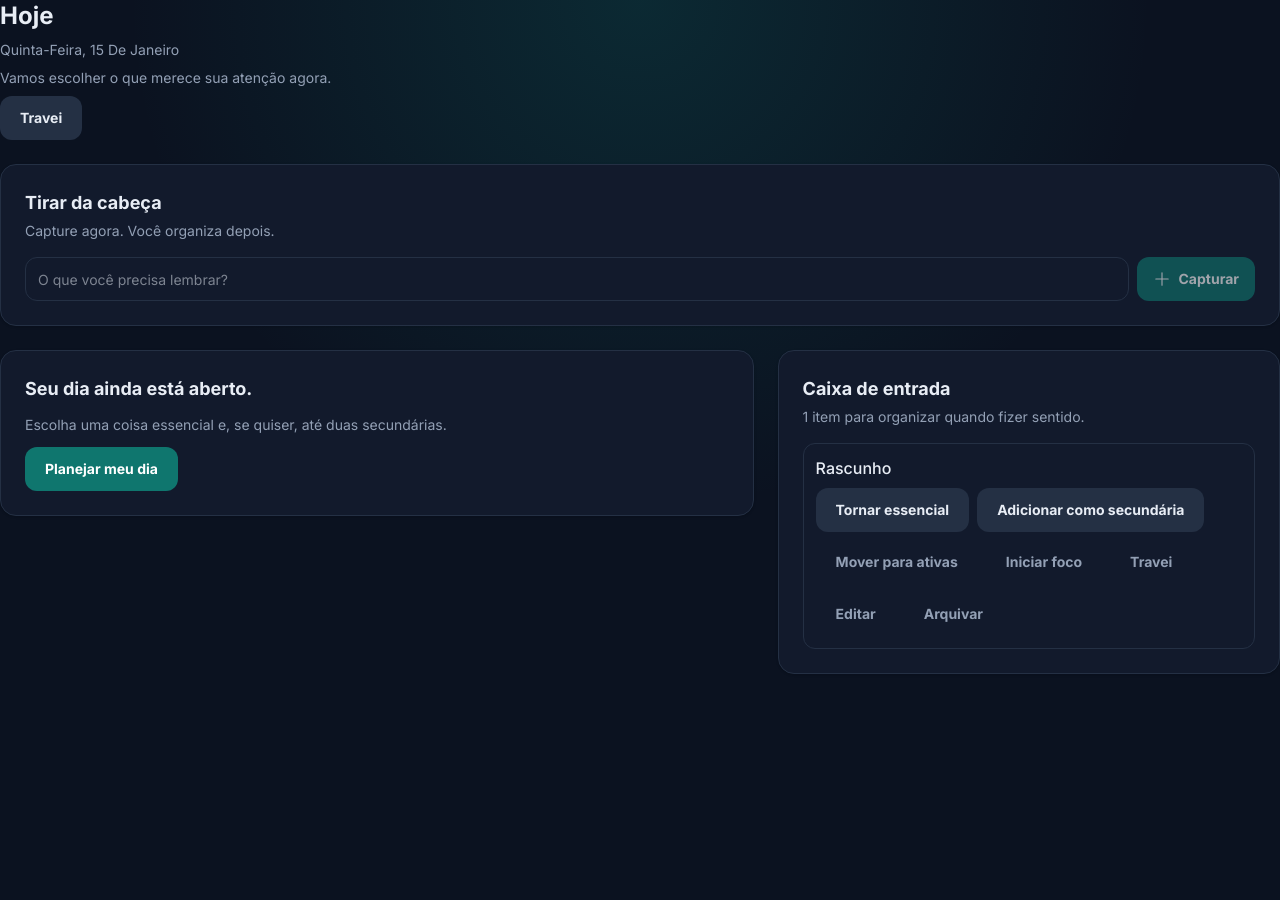
Test case: Today screen › editing › does not save on cancel and rejects an empty title
Expected: the heading "Hoje" is shown, [0,1,54,30]
Click the button "Editar": [856, 614] box [816,592,896,636]
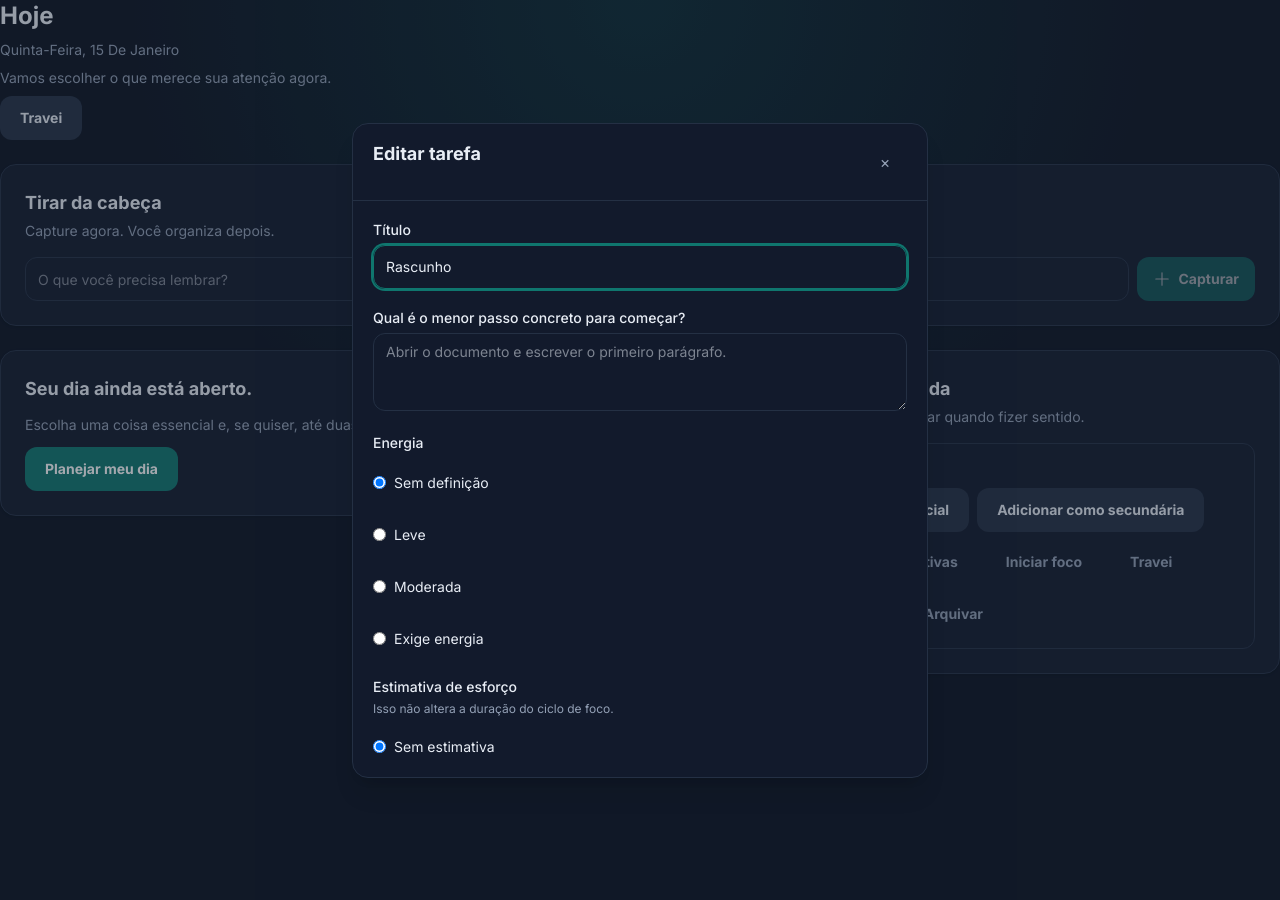
Replace the text in the field labelled "Título" with "Não deve ficar": [640, 266] box [373,244,907,288]
(page scrolled)
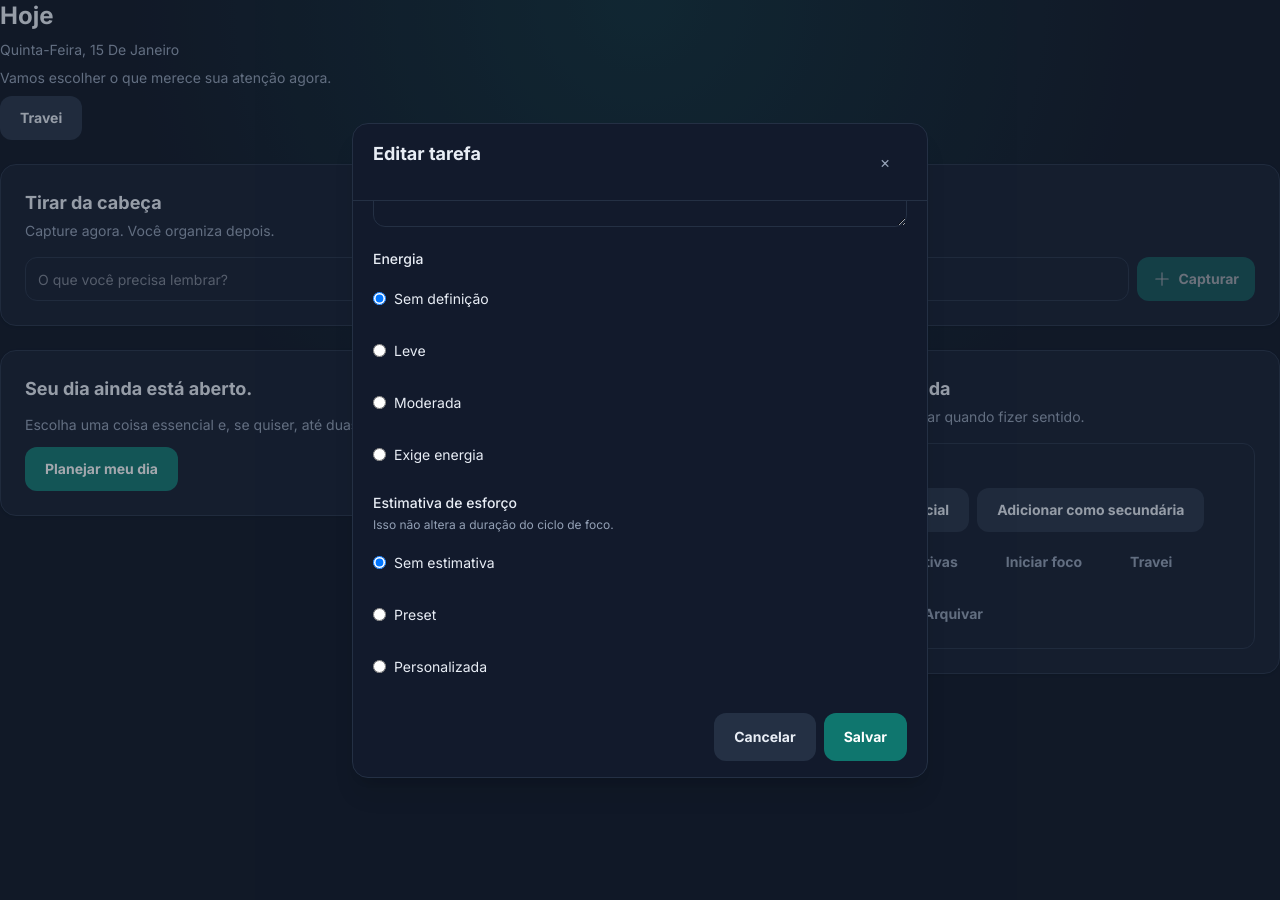
Click the button "Cancelar": [765, 736] box [714,712,816,760]
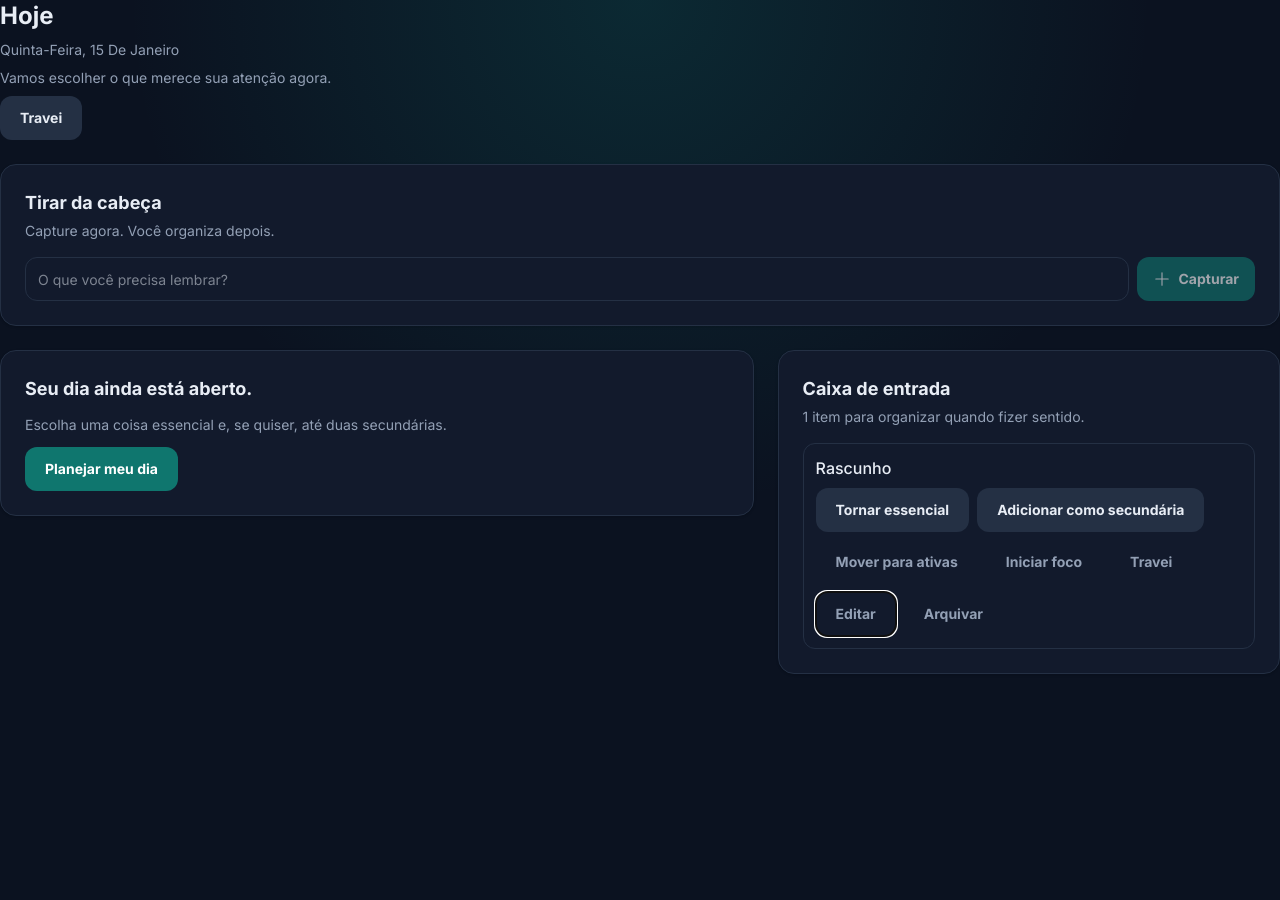
Expected: the text "Rascunho" is shown, [816,458,891,478]
Expected: the text "Não deve ficar" is not shown
Click the button "Editar": [856, 614] box [816,592,896,636]
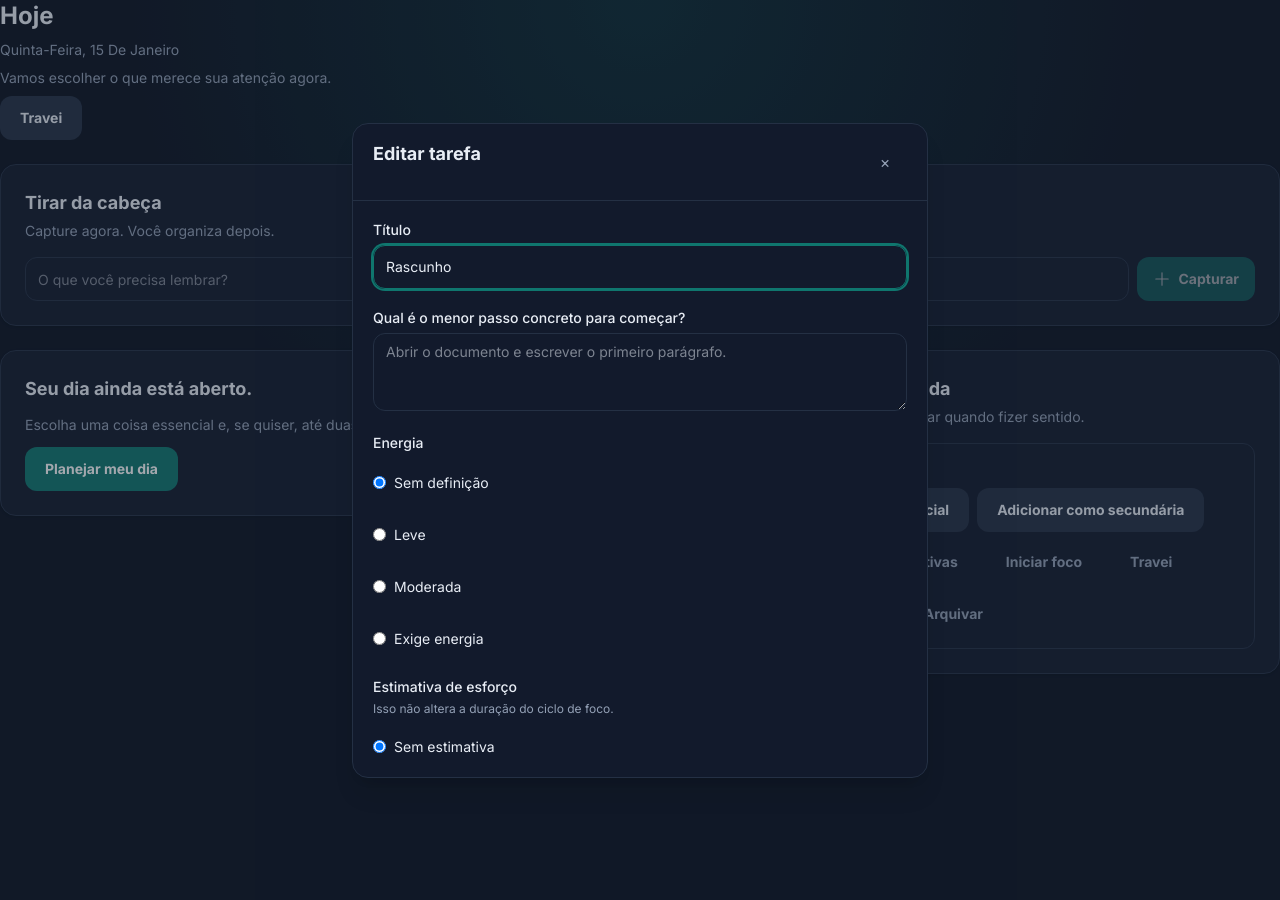
Clear the field labelled "Título": [640, 266] box [373,244,907,288]
(page scrolled)
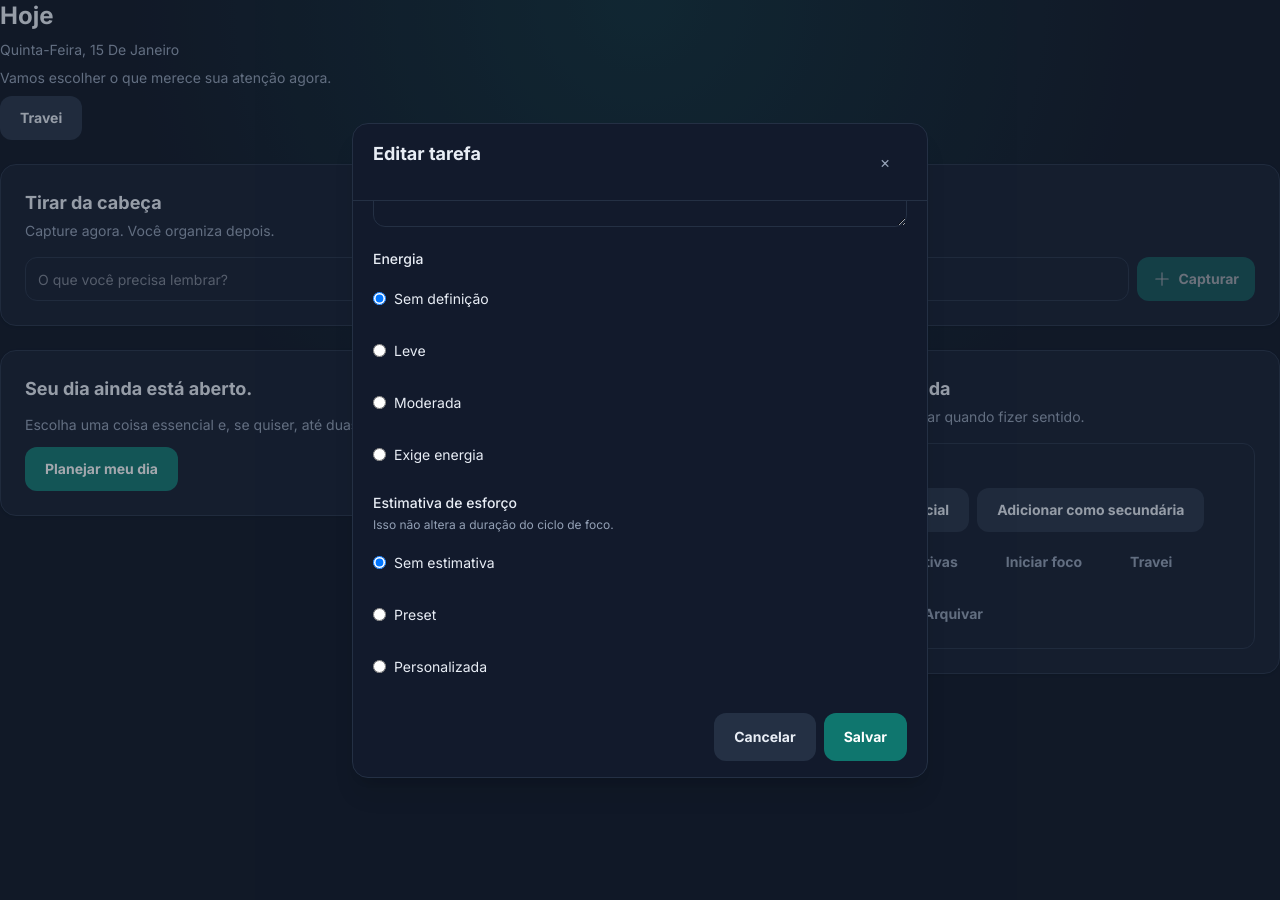
Click the button "Salvar": [865, 736] box [824,712,907,760]
(page scrolled)
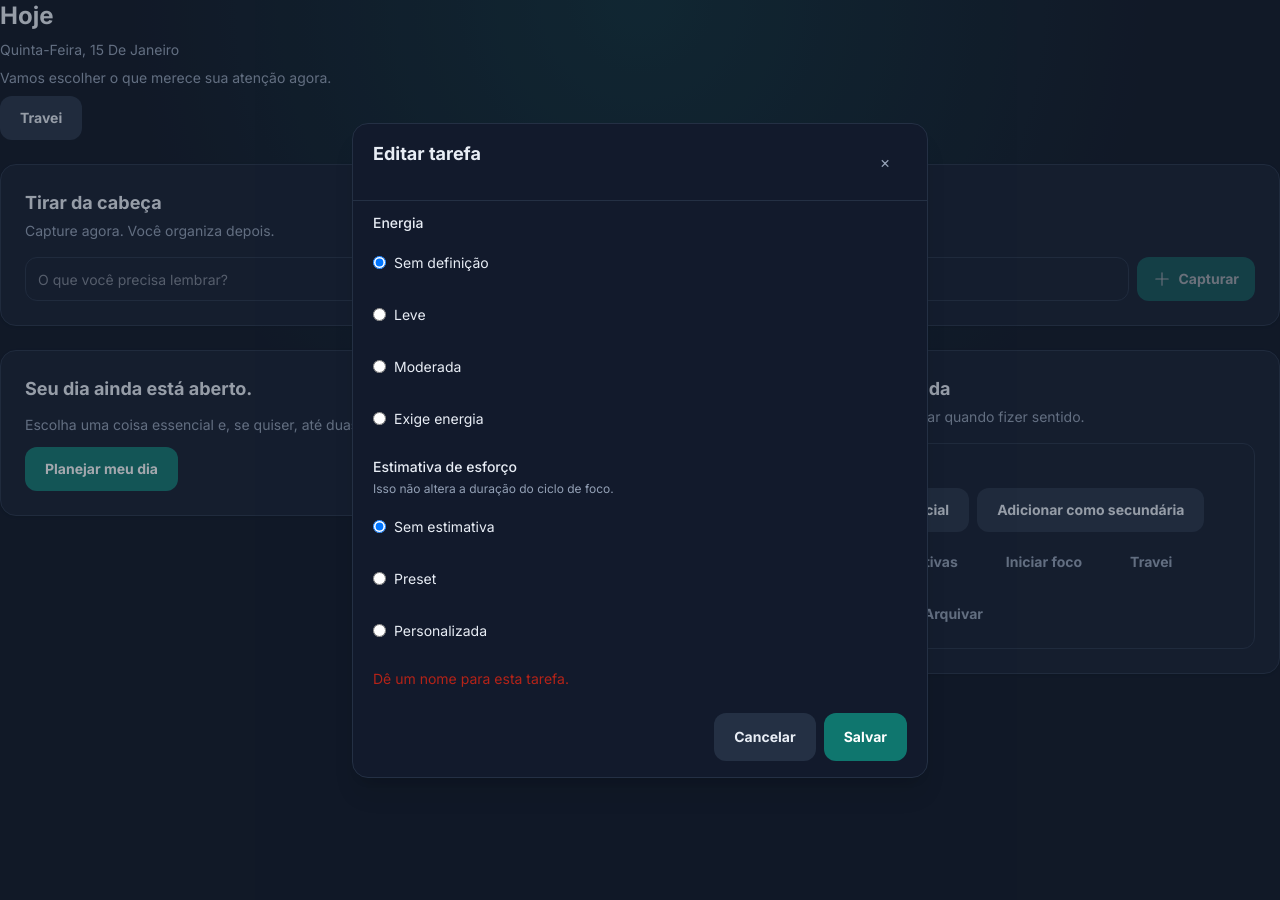
Result: the message reads "Dê um nome para esta tarefa." at [373,670,569,686]
